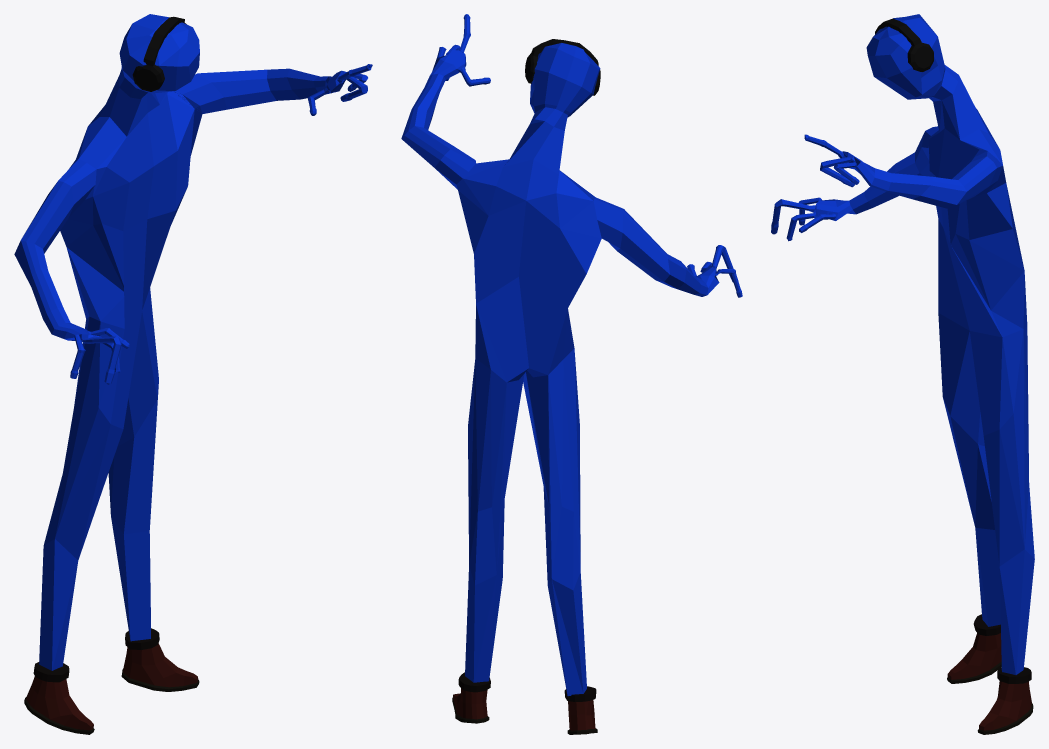
The model's file is dj_anim_p2_f3.obj.
3 views of the same model, side by side, from view 1: azimuth 30°, elevation 25°; view 2: azimuth 150°, elevation 25°; view 3: azimuth 270°, elevation 25° (orthographic). The views are drawn at different scales.
Visible parts, largest first — view 1: dj_alien, Shoe, Headphones; view 2: dj_alien, Shoe, Headphones; view 3: dj_alien, Shoe, Headphones.
Part boxes in pixels (x1,y1,x2,y2): dj_alien: (14, 14, 372, 670); Shoe: (24, 628, 199, 734); Headphones: (132, 16, 186, 91); dj_alien: (401, 14, 742, 696); Shoe: (452, 672, 597, 734); Headphones: (525, 39, 600, 95); dj_alien: (771, 14, 1034, 674); Shoe: (947, 614, 1033, 734); Headphones: (875, 18, 933, 71).
Bounding box in the file's own units: 0.9995 × 2.18 × 0.7617.
